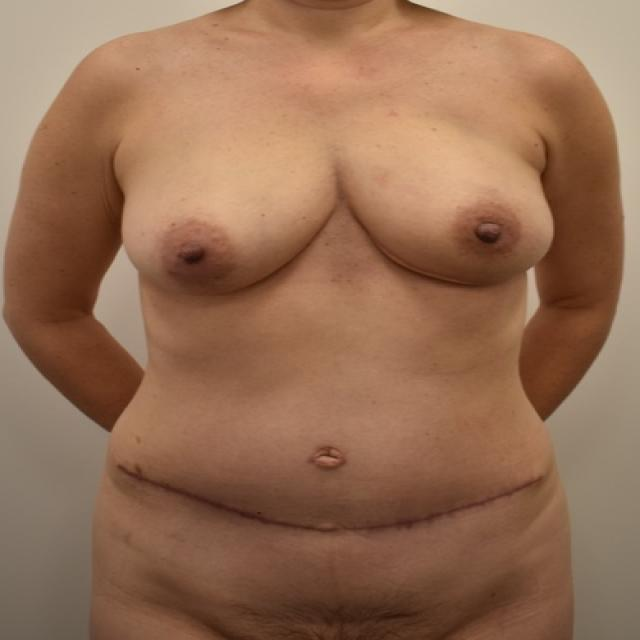Seno ileso: (339, 127, 561, 308), (112, 127, 334, 307)
